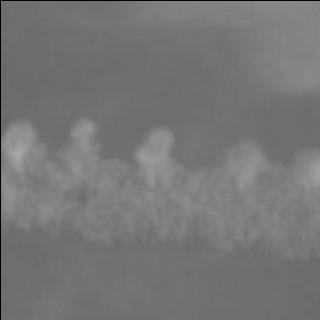Cirrocumulus: (0, 110, 320, 277)
